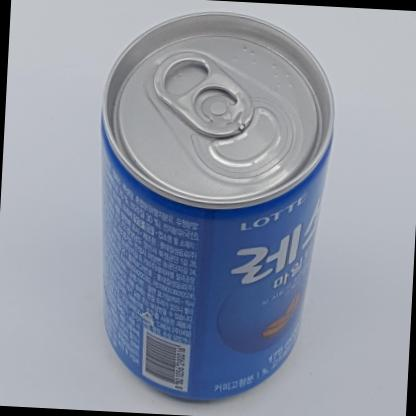alumunium_can: (86, 4, 341, 408)
